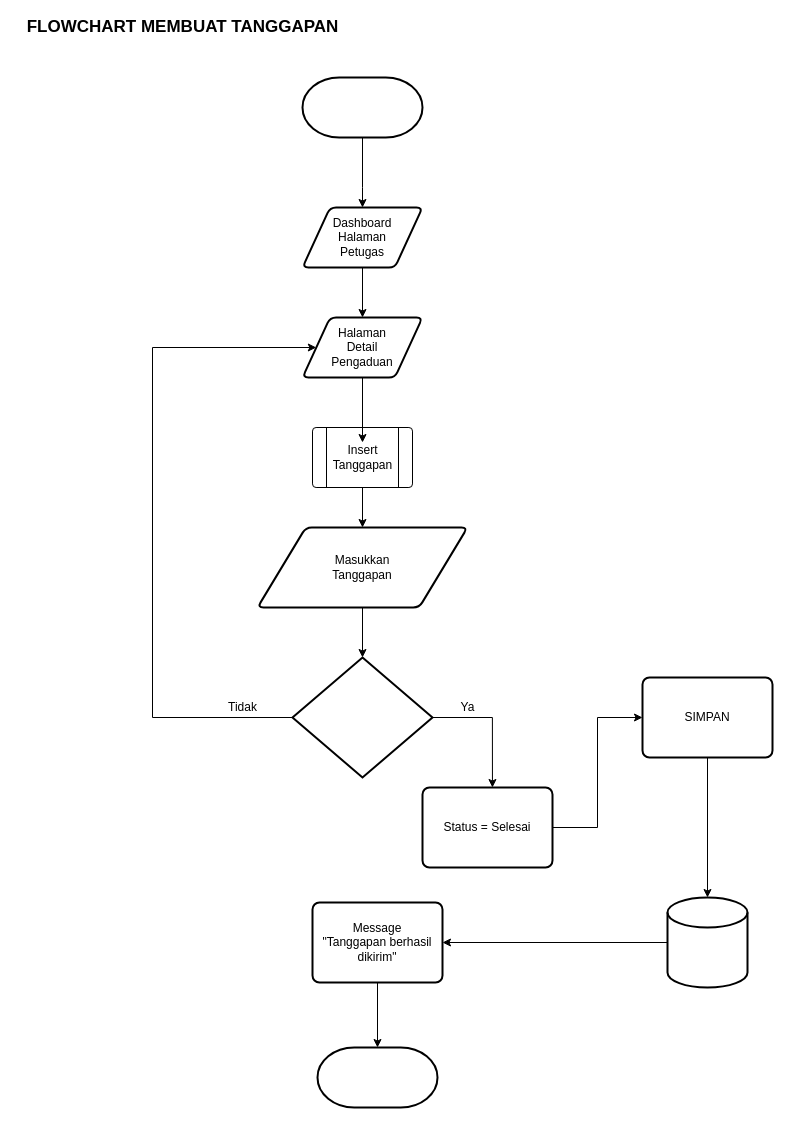
The diagram is 790 pixels wide and 1125 high, and some of its shapes have lost their labels. Each missing label, with the centre of its shape:
"Apakah memenuhi syarat valdasi ?" goes at (362,717).
"DB" goes at (707,942).
"Mulai" goes at (362,107).
"Selesai" goes at (377,1077).
